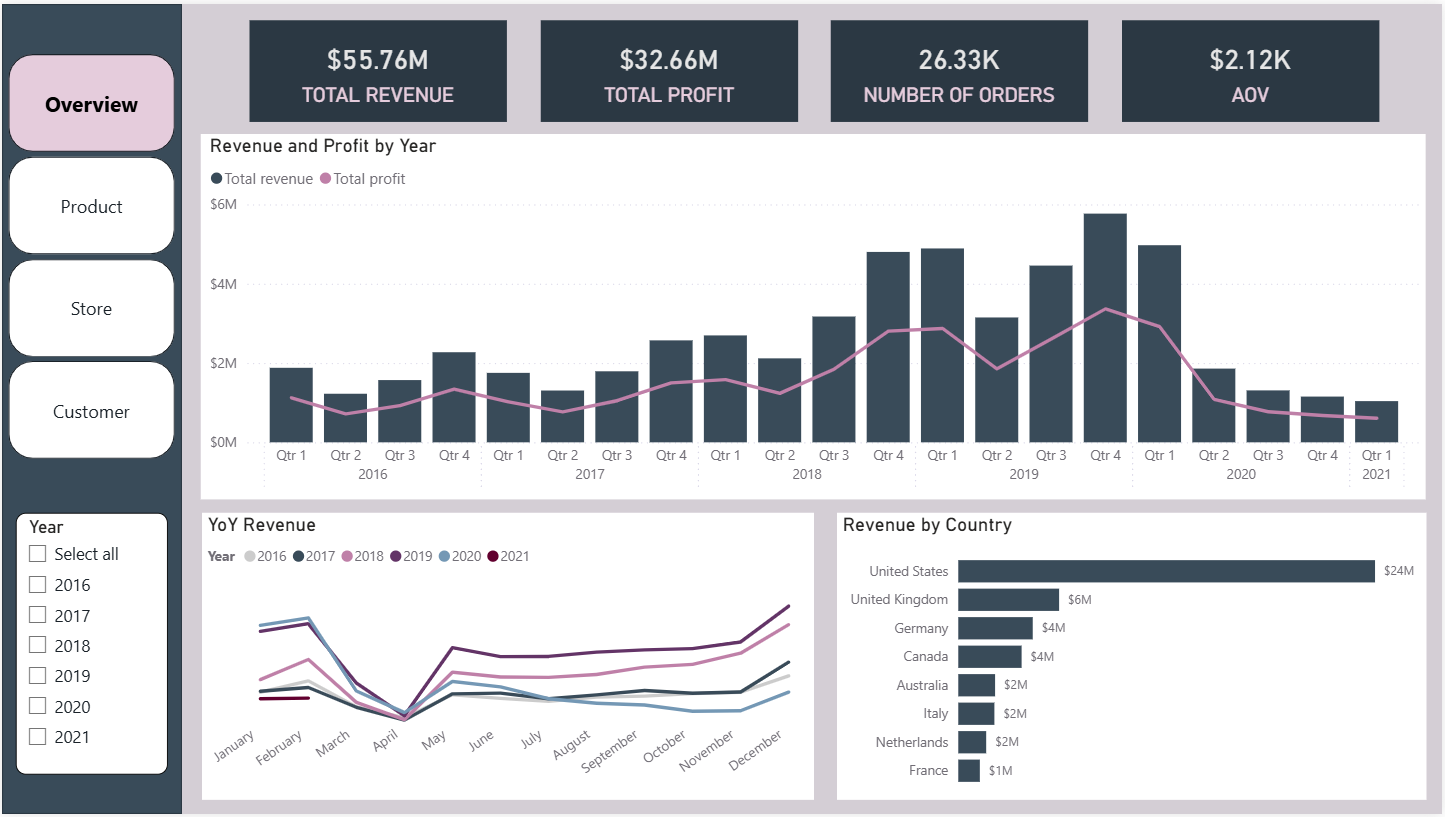

This screenshot's page, from the dashboard's own definition file:
{"tool":"powerbi","page":{"name":"Overview","canvas":[1280,720],"ordinal":0},"visuals":[{"type":"shape","box":[0,0,160,720],"z":0},{"type":"card","fields":{"Values":["Sum(sales_time.total_revenue)"]},"box":[220,14,228.4,90],"z":1000},{"type":"card","fields":{"Values":["Sum(sales_time.number_of_orders)"]},"box":[737,14,228.4,90],"z":2000},{"type":"card","fields":{"Values":["Sum(sales_time.total_profit)"]},"box":[478.5,14,228.4,90],"z":3000},{"type":"slicer","fields":{"Values":["YearTable.order_year"]},"box":[12.5,452.5,135,232.5],"z":4000},{"type":"lineStackedColumnComboChart","title":"Revenue and Profit by Year","fields":{"Category":["sales_time.year_month.Variation.Date Hierarchy.Year","sales_time.year_month.Variation.Date Hierarchy.Quarter","sales_time.year_month.Variation.Date Hierarchy.Month","sales_time.year_month.Variation.Date Hierarchy.Day"],"Y":["Sum(sales_time.total_revenue)"],"Y2":["Sum(sales_time.total_profit)"]},"box":[177,115,1089,325],"z":5000},{"type":"barChart","title":"Revenue by Country","fields":{"Category":["offline_sum.country"],"Y":["Sum(offline_sum.total_revenue)"]},"box":[742,452,524,255],"z":6000},{"type":"card","fields":{"Values":["customer_sum.AOV"]},"box":[995.6,14,228.4,90],"z":7000},{"type":"pageNavigator","box":[5.6,44.4,148.9,362.2],"z":8000},{"type":"lineChart","title":"YoY Revenue","fields":{"Y":["Sum(sales_time.total_revenue)"],"Series":["YearTable.order_year"],"Category":["sales_time.month_name"]},"box":[177.5,452.5,543.8,255],"z":9000}]}

Visuals, with their boxes in screenshot pixels (x1, y1, x2, y2), scaled from the page's 1280x720 canvas onto the 1445x817 screenshot:
shape: <region>0, 0, 181, 816</region>
card - Sum(sales_time.total_revenue): <region>248, 16, 506, 118</region>
card - Sum(sales_time.number_of_orders): <region>832, 16, 1090, 118</region>
card - Sum(sales_time.total_profit): <region>540, 16, 798, 118</region>
slicer - YearTable.order_year: <region>14, 513, 167, 777</region>
"Revenue and Profit by Year" lineStackedColumnComboChart: <region>200, 130, 1429, 499</region>
"Revenue by Country" barChart: <region>838, 513, 1429, 802</region>
card - customer_sum.AOV: <region>1124, 16, 1382, 118</region>
pageNavigator: <region>6, 50, 174, 461</region>
"YoY Revenue" lineChart: <region>200, 513, 814, 803</region>
